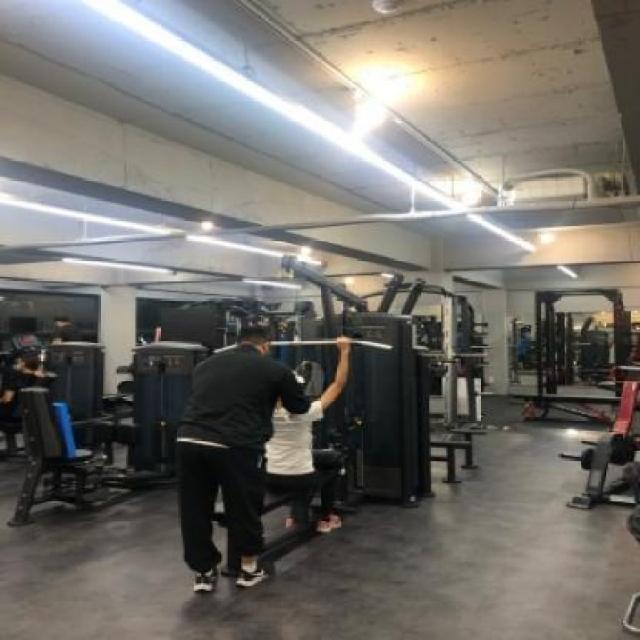Lat Pull Down: (144, 254, 448, 617)
